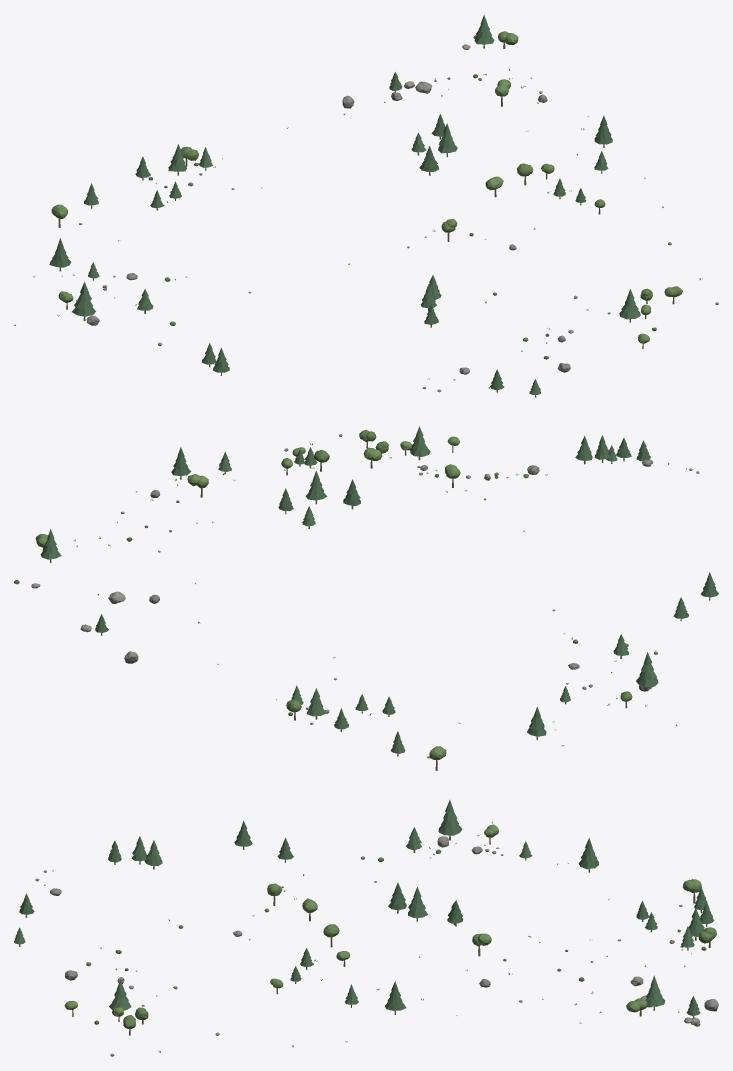
The model's file is arch_land_scatter_c20_19.glb.
3 renders of one model, top to bottom at view 1: azimuth 30°, elevation 25°; view 2: azimuth 150°, elevation 25°; view 3: azimuth 270°, elevation 25°, orthographic. The views are drawn at different scales.
Visible parts, largest first — view 1: arch_land_scatter_c20_19; view 2: arch_land_scatter_c20_19; view 3: arch_land_scatter_c20_19.
Part boxes in pixels (x1,y1,x2,y2): arch_land_scatter_c20_19: [14, 14, 718, 397]; arch_land_scatter_c20_19: [14, 426, 718, 770]; arch_land_scatter_c20_19: [14, 800, 718, 1056].
Bounding box in the file's own units: 251 × 58.75 × 258.
